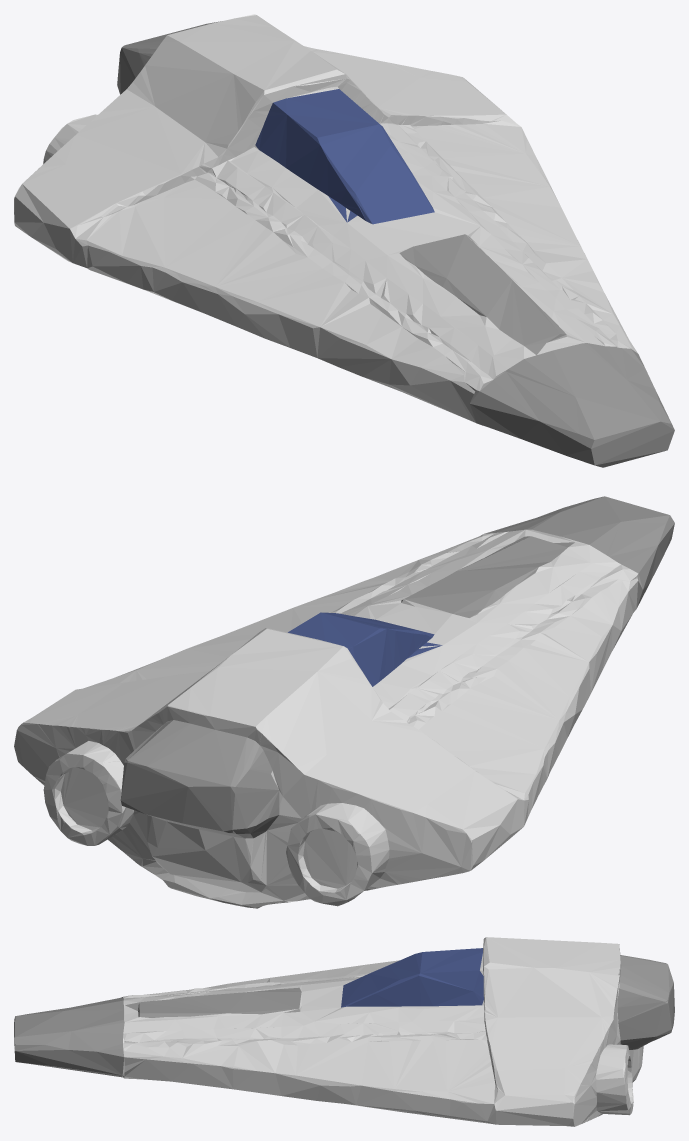
The model's file is hull_needle.obj.
3 views of the same model, one above another, from view 1: azimuth 30°, elevation 25°; view 2: azimuth 150°, elevation 25°; view 3: azimuth 270°, elevation 25° (orthographic). The views are drawn at different scales.
Bounding box in the file's own units: 2.36 × 0.9618 × 4.1.
